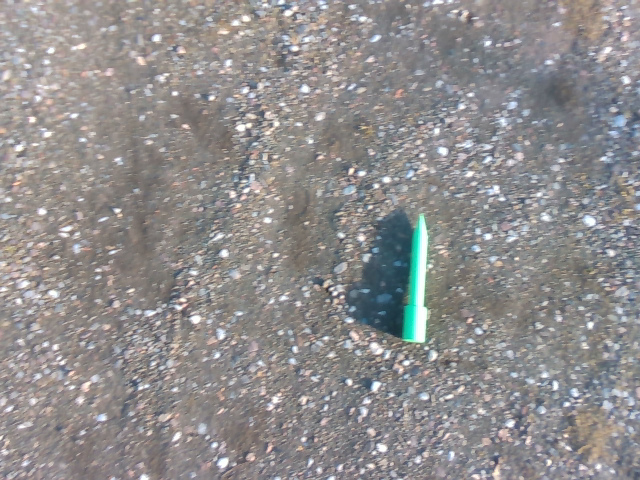Probe: (393, 210, 435, 346)
